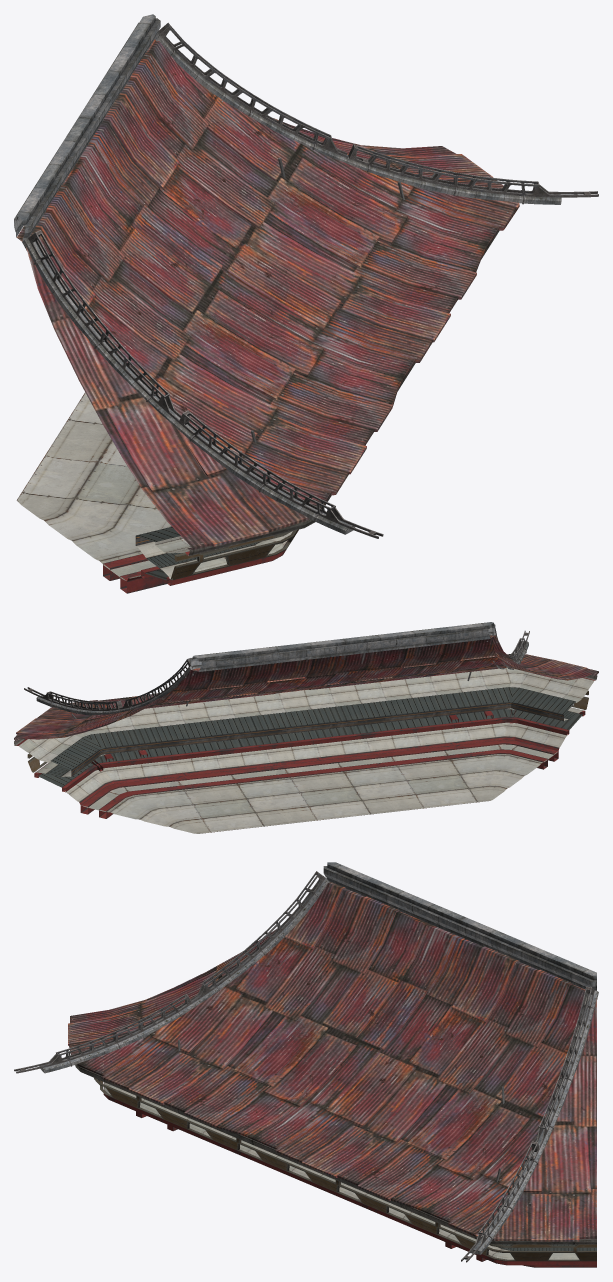
File: Pagoda_Tile_Roof_Corner_Round_10000x5000_A.FBX
3 renders of one model, top to bottom at view 1: azimuth 30°, elevation 25°; view 2: azimuth 150°, elevation 25°; view 3: azimuth 270°, elevation 25°, orthographic. The views are drawn at different scales.
Parts seen in each view (by area): view 1: Geometry_Pagoda_Tile_Roof_Corner_Round_10000x5000_A_LOD00; view 2: Geometry_Pagoda_Tile_Roof_Corner_Round_10000x5000_A_LOD00; view 3: Geometry_Pagoda_Tile_Roof_Corner_Round_10000x5000_A_LOD00.
Part boxes in pixels (x1,y1,x2,y2): Geometry_Pagoda_Tile_Roof_Corner_Round_10000x5000_A_LOD00: (14, 14, 598, 593); Geometry_Pagoda_Tile_Roof_Corner_Round_10000x5000_A_LOD00: (14, 622, 598, 833); Geometry_Pagoda_Tile_Roof_Corner_Round_10000x5000_A_LOD00: (14, 862, 598, 1267).
Size of what is drawn, in the model's own units: 11191 by 4742 by 11205.
Materials: 4 (4 with a texture image).
